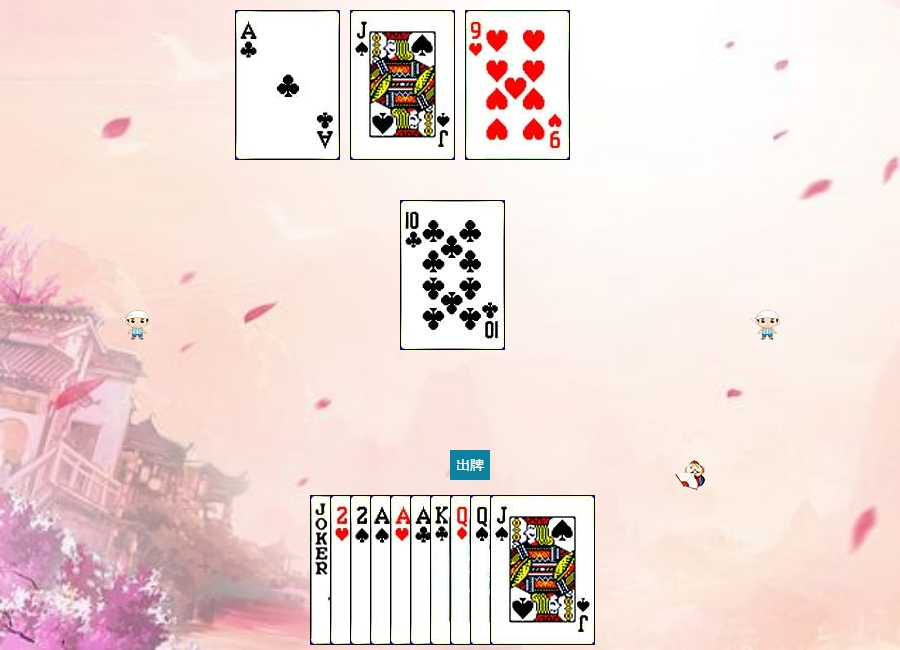10~2: (400, 200, 505, 350)
11~4: (350, 10, 455, 160), (490, 495, 595, 645)
12~1: (450, 495, 555, 645)
12~4: (470, 495, 575, 645)
13~2: (430, 495, 535, 645)
14~2: (235, 10, 340, 160), (410, 495, 515, 645)
14~3: (390, 495, 495, 645)
14~4: (370, 495, 475, 645)
15~3: (330, 495, 435, 645)
15~4: (350, 495, 455, 645)
17~3: (310, 495, 415, 645)
9~3: (465, 10, 570, 160)
